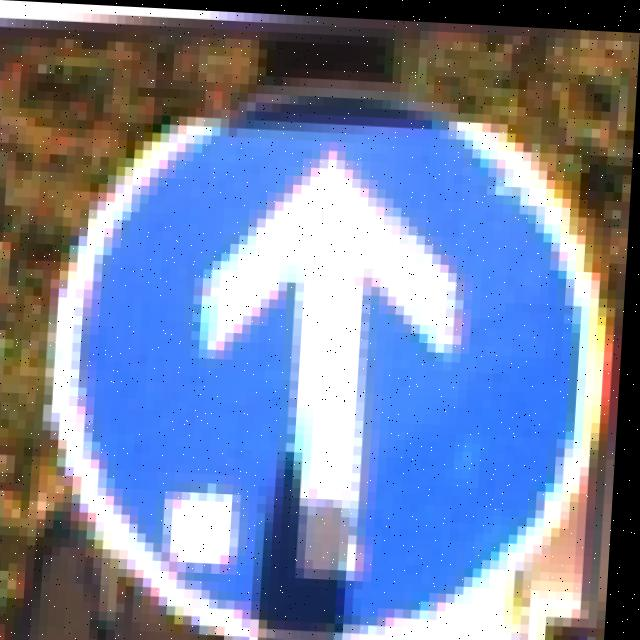compulsory_ahead: (36, 86, 615, 615)
